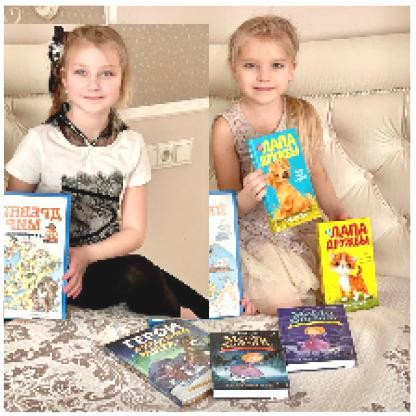child: (5, 25, 211, 322), (213, 16, 356, 317)
